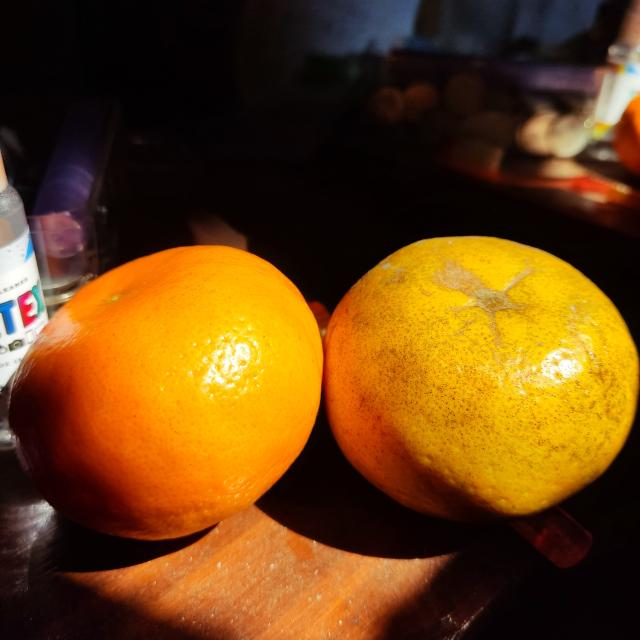orange: (11, 240, 324, 540), (323, 236, 638, 532)
